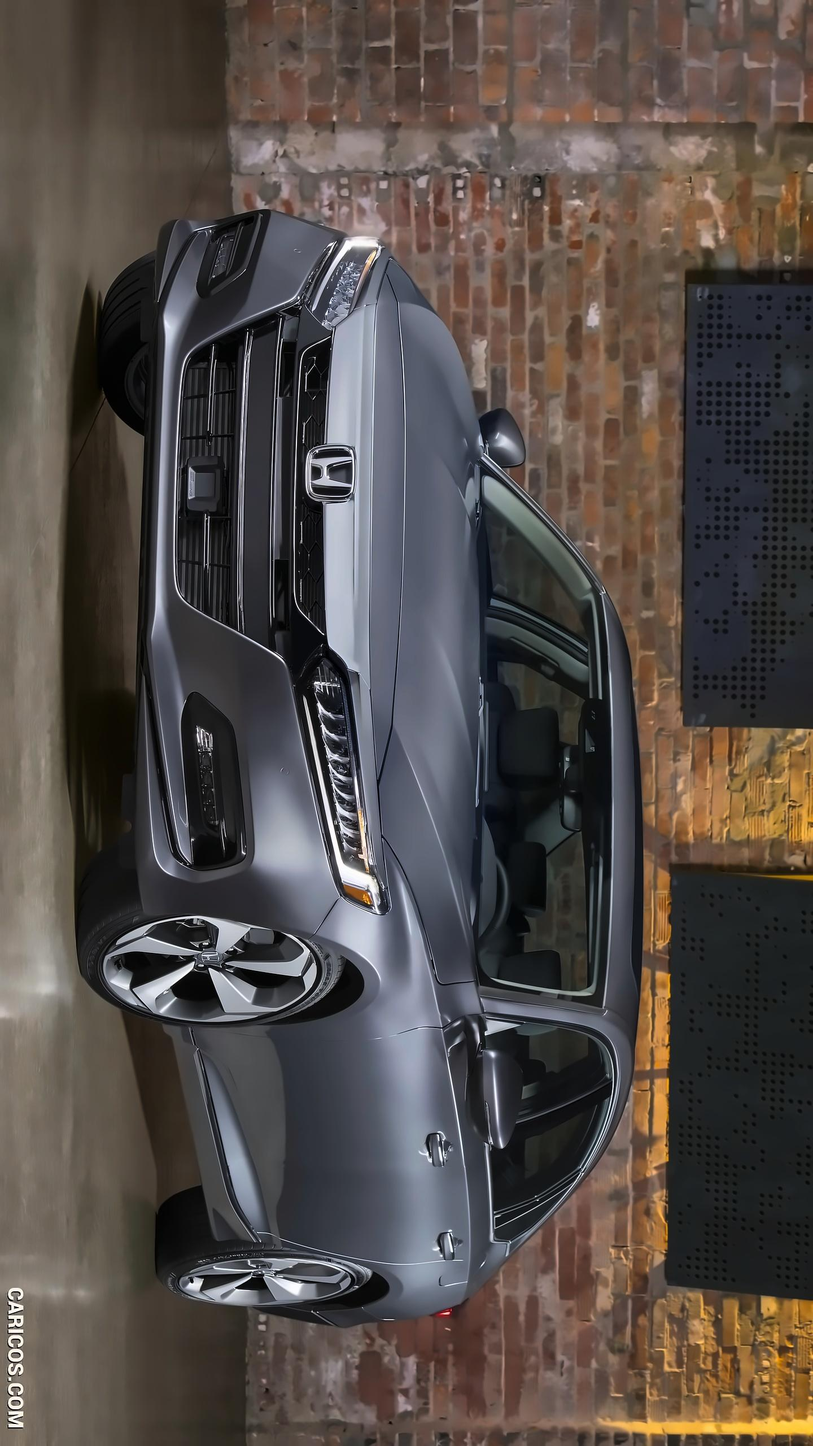Car hood: (353, 266, 481, 1023)
Fender - -F-L-: (200, 895, 499, 1114)
Front bumper: (127, 209, 348, 956)
Headlight - -L-: (285, 613, 386, 915)
Headlight - -R-: (285, 226, 391, 351)
Passenger-s door - -F-L-: (133, 958, 652, 1164)
Passenger-s door - -R-L-: (167, 1054, 640, 1244)
Side bumper - -L-: (133, 1011, 271, 1257)
Side mirror - -L-: (435, 1017, 512, 1161)
Side mirror - -R-: (469, 396, 547, 499)
